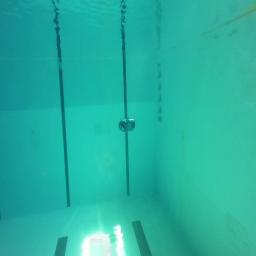Side: (119, 118, 135, 132)
